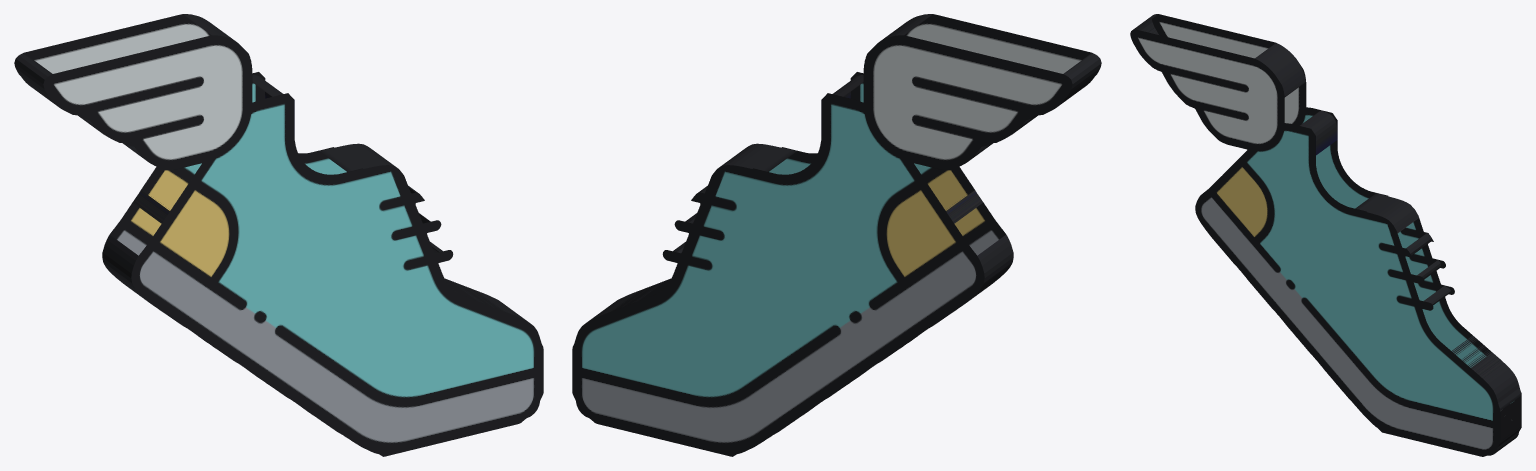
The model's file is Speed Power Up.fbx.
The picture shows the model from 3 angles, left to right: view 1: azimuth 30°, elevation 25°; view 2: azimuth 150°, elevation 25°; view 3: azimuth 330°, elevation 25°; orthographic projection. The views are drawn at different scales.
Visible parts, largest first — view 1: Speed Power Up; view 2: Speed Power Up; view 3: Speed Power Up.
Part boxes in pixels (left/top/right/bottom): Speed Power Up: left=14, top=14, right=543, bottom=456; Speed Power Up: left=572, top=14, right=1101, bottom=456; Speed Power Up: left=1130, top=14, right=1521, bottom=456.
Bounding box in the file's own units: 1.98 × 1.76 × 0.2.
